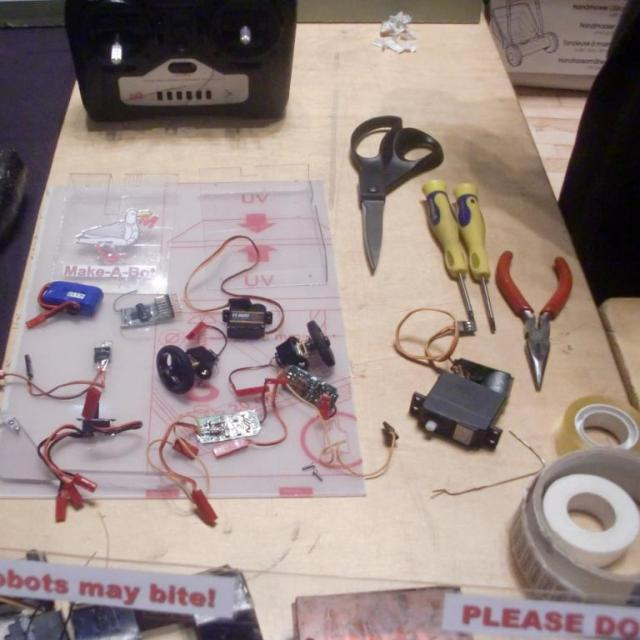scissors: (348, 115, 444, 274)
